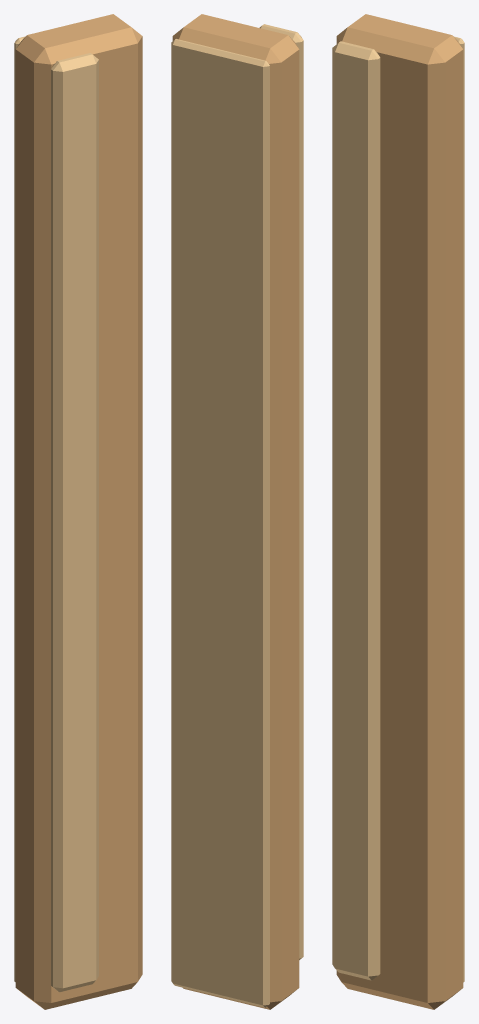
The model's file is fishcake.glb.
3 views of the same model, side by side, from view 1: azimuth 30°, elevation 25°; view 2: azimuth 150°, elevation 25°; view 3: azimuth 330°, elevation 25° (orthographic).
Visible parts, largest first — view 1: fishcake_strip, fishcake_fold, fishcake_cut_side; view 2: fishcake_cut_side, fishcake_strip, fishcake_fold; view 3: fishcake_strip, fishcake_fold, fishcake_cut_side.
Part boxes in pixels (x1,y1,x2,y2): fishcake_strip: (15,14,142,1009); fishcake_fold: (51,53,98,992); fishcake_cut_side: (14,36,25,981); fishcake_cut_side: (171,39,269,1007); fishcake_strip: (172,14,299,1009); fishcake_fold: (259,24,303,959); fishcake_strip: (336,14,463,1009); fishcake_fold: (332,41,380,980); fishcake_cut_side: (454,36,464,982).
Size of the model in its own units: 0.118 by 0.998 by 0.08.
